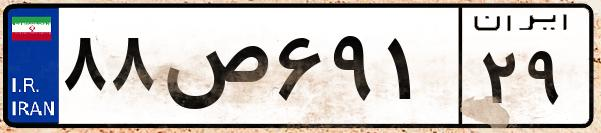1: (385, 28, 445, 110)
2: (475, 38, 525, 113)
6: (270, 28, 330, 110)
8: (57, 26, 110, 100), (110, 28, 158, 98)
9: (330, 28, 385, 110), (525, 38, 570, 115)
ص: (158, 20, 270, 120)
